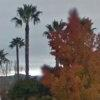Palm tree: (7, 4, 43, 69)
